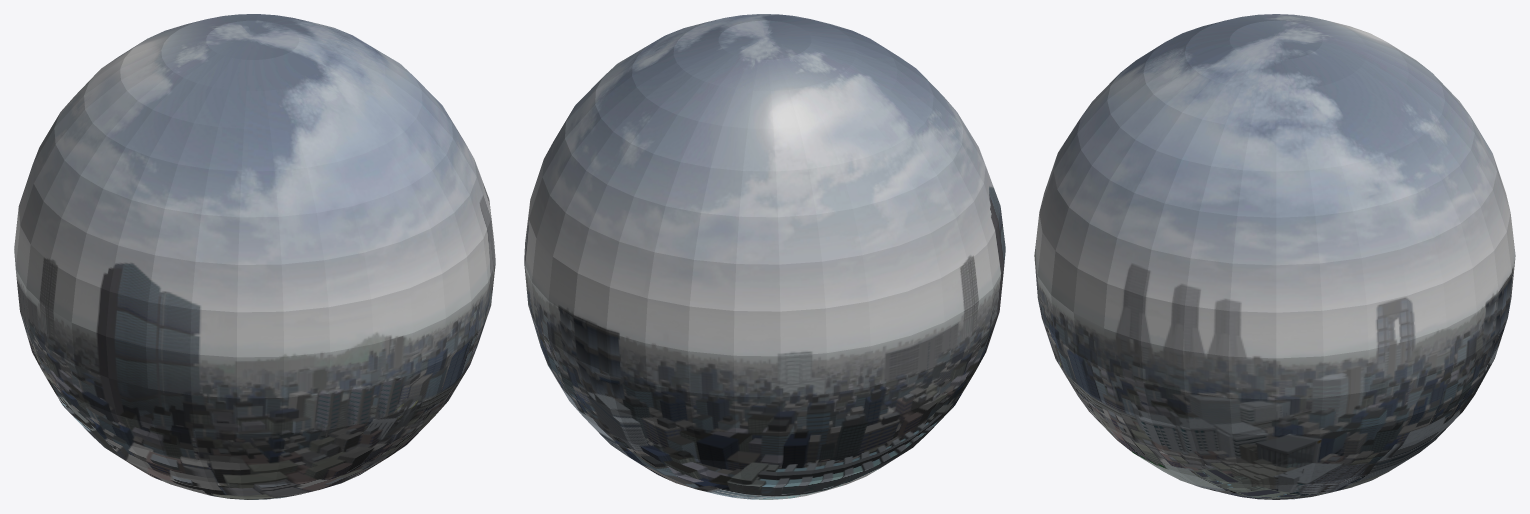
Rendered from skydoam.fbx.
3 renders of one model, left to right at view 1: azimuth 30°, elevation 25°; view 2: azimuth 150°, elevation 25°; view 3: azimuth 270°, elevation 25°, orthographic.
Parts seen in each view (by area): view 1: Sphere; view 2: Sphere; view 3: Sphere.
Part boxes in pixels (<box>): Sphere: <box>14,14,495,499</box>; Sphere: <box>524,14,1005,499</box>; Sphere: <box>1034,14,1515,499</box>.
Bounding box in the file's own units: 589 × 590 × 587.
